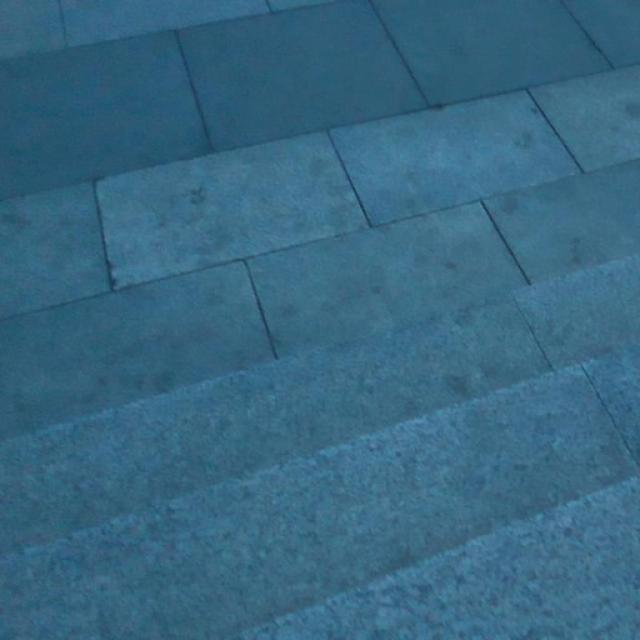stair: (21, 300, 640, 640)
